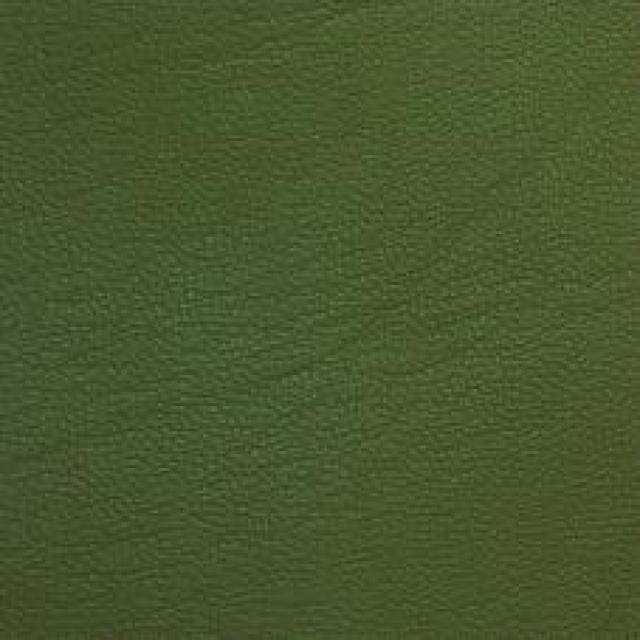Growth Marks: (117, 299, 513, 440)
